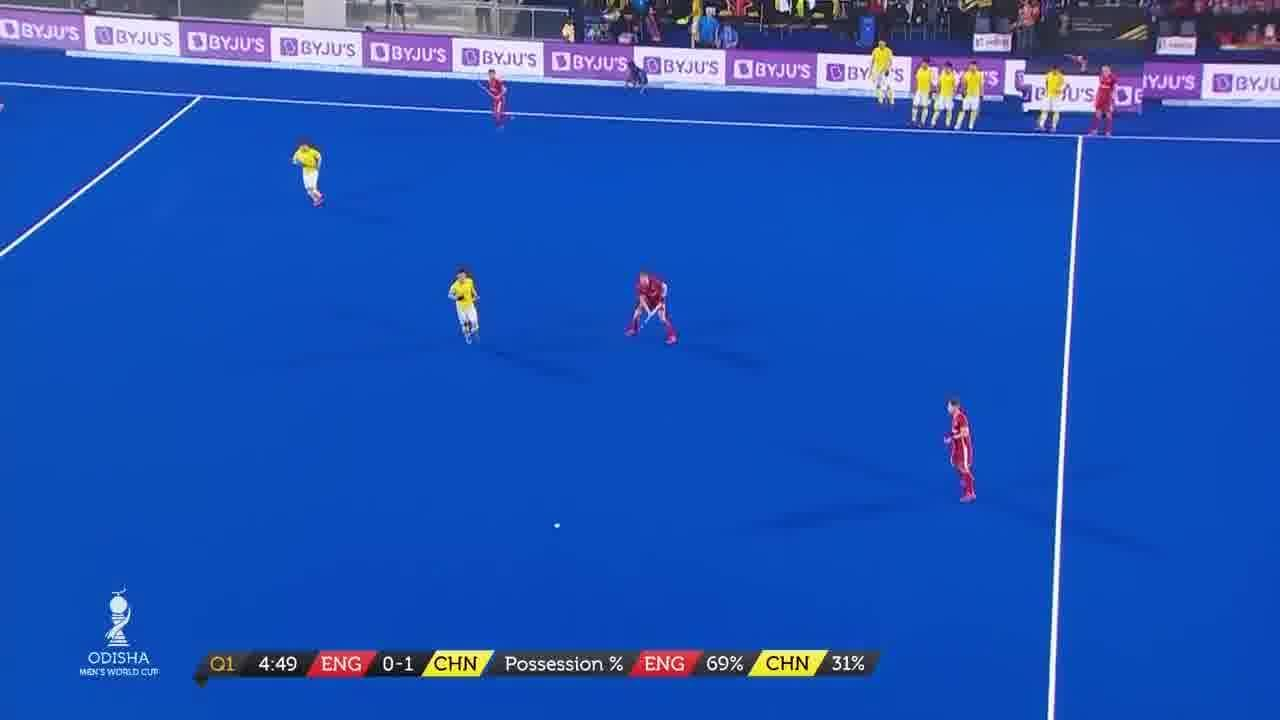ball: (543, 518, 576, 540)
